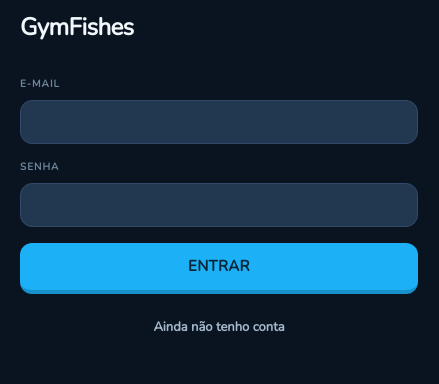
Test: Login › shows a network message when the failure is not an auth error
Type "leo@exemplo.com" into the field labelled "E-mail".
click(219, 122); type("leo@exemplo.com")  # box [20, 100, 418, 144]
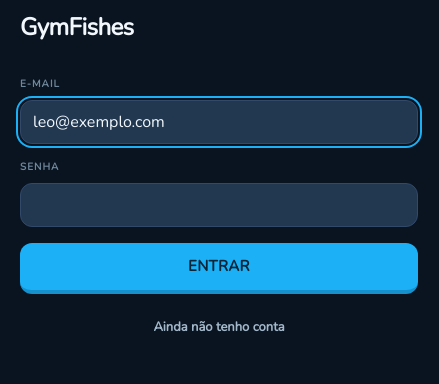
Type "senhaforte1" into the password field labelled "Senha".
click(219, 205); type("senhaforte1")  # box [20, 183, 418, 227]
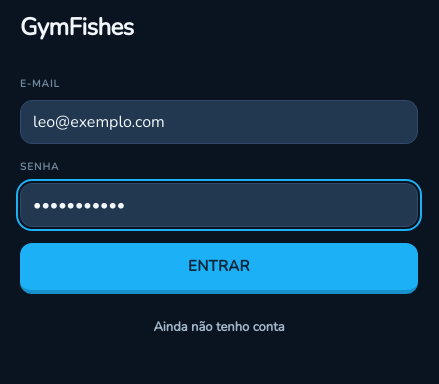
Click the button "Entrar".
click(219, 268)  # box [20, 243, 418, 294]
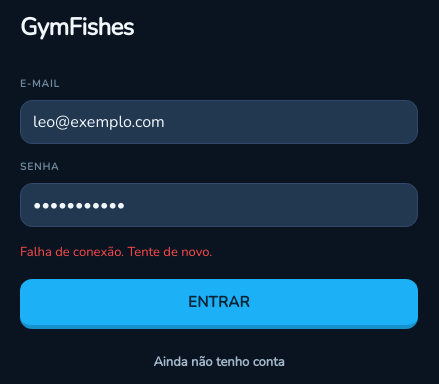
expect the text "Falha de conexão. Tente de novo." is shown: met, box [20, 243, 212, 261]
